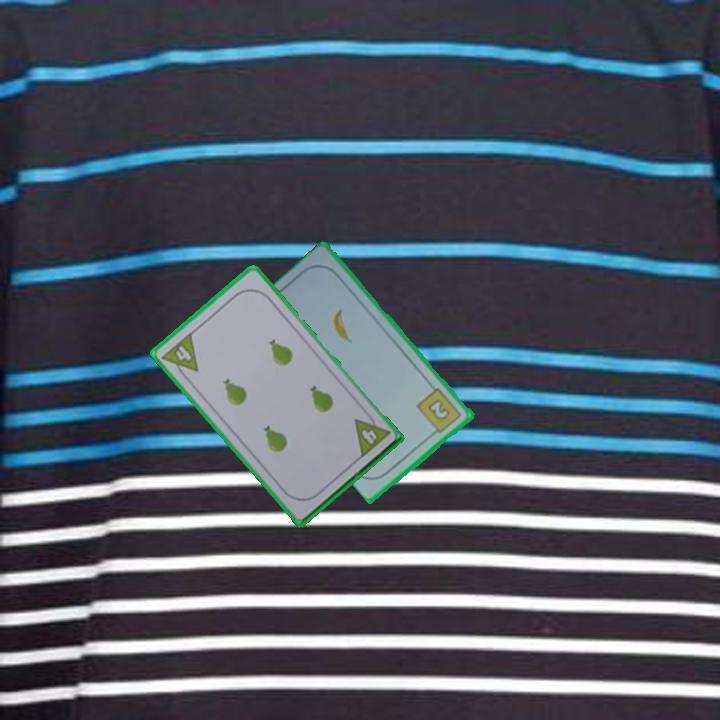2b: (414, 384, 465, 438)
4p: (158, 329, 201, 383), (350, 408, 393, 461)
